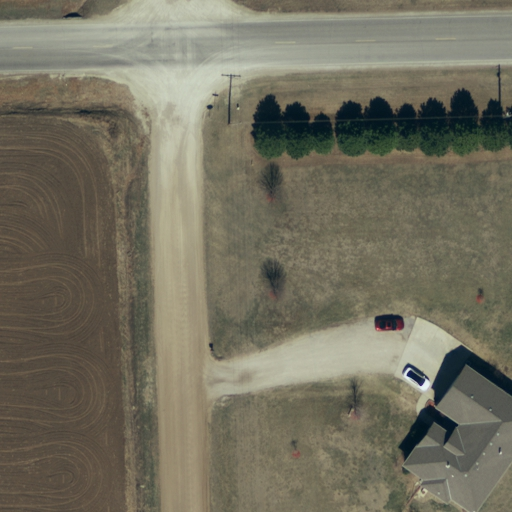DT: (219, 111, 244, 138), (492, 104, 511, 129)
